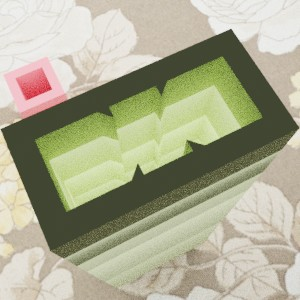lego: (0, 28, 300, 288), (2, 56, 75, 152)
